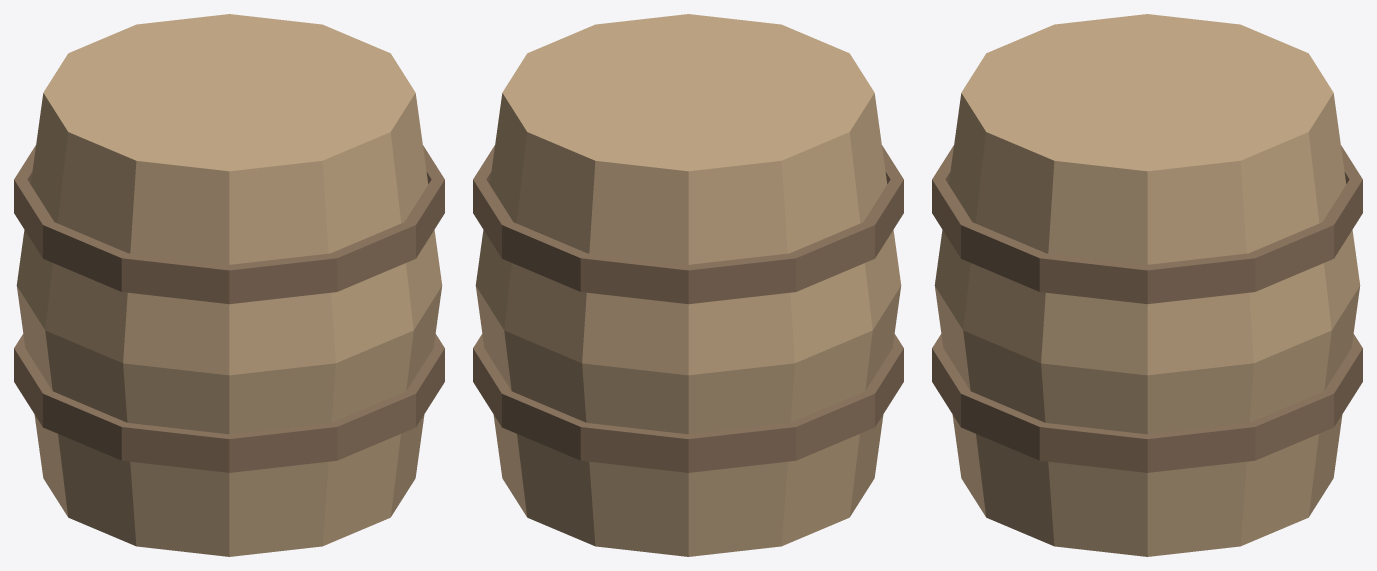
File: feudal-japan-castle-town-rice-barrel-758a5041__26447.glb
The picture shows the model from 3 angles, left to right: view 1: azimuth 30°, elevation 25°; view 2: azimuth 150°, elevation 25°; view 3: azimuth 270°, elevation 25°; orthographic projection.
Parts seen in each view (by area): view 1: rice-barrel; view 2: rice-barrel; view 3: rice-barrel.
Part boxes in pixels (<box>): rice-barrel: <box>14,14,444,556</box>; rice-barrel: <box>473,14,903,556</box>; rice-barrel: <box>932,14,1362,556</box>.
Bounding box in the file's own units: 0.81 × 0.8 × 0.81.
